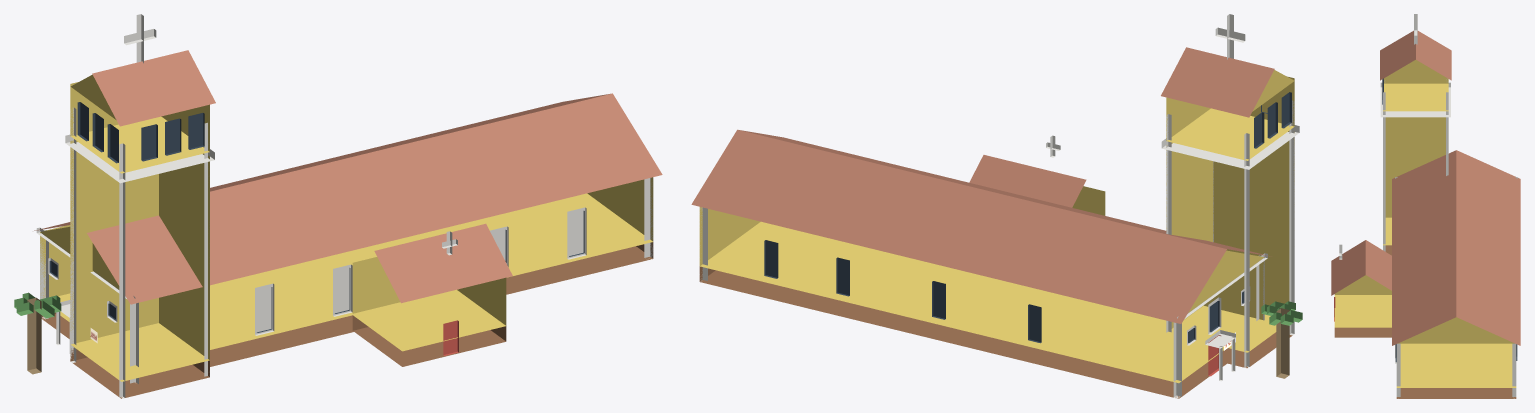
File: filomena.glb
The picture shows the model from 3 angles, left to right: view 1: azimuth 30°, elevation 25°; view 2: azimuth 150°, elevation 25°; view 3: azimuth 270°, elevation 25°; orthographic projection. The views are drawn at different scales.
Parts seen in each view (by area): view 1: filomena_lod0; view 2: filomena_lod0; view 3: filomena_lod0.
Part boxes in pixels (<box>): filomena_lod0: <box>14,14,662,398</box>; filomena_lod0: <box>691,14,1302,398</box>; filomena_lod0: <box>1331,14,1520,398</box>.
Size of what is drawn, in the model's own units: 46.35 by 26 by 19.6.
Materials: 9 (1 with a texture image).
